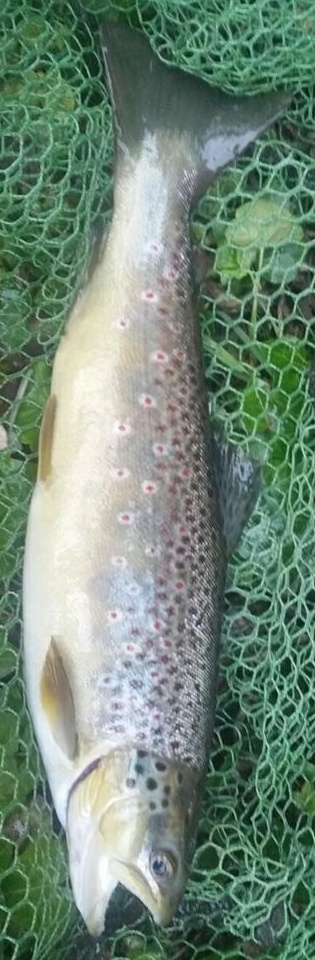Salmo trutta subsp. fario: (20, 20, 295, 940)
